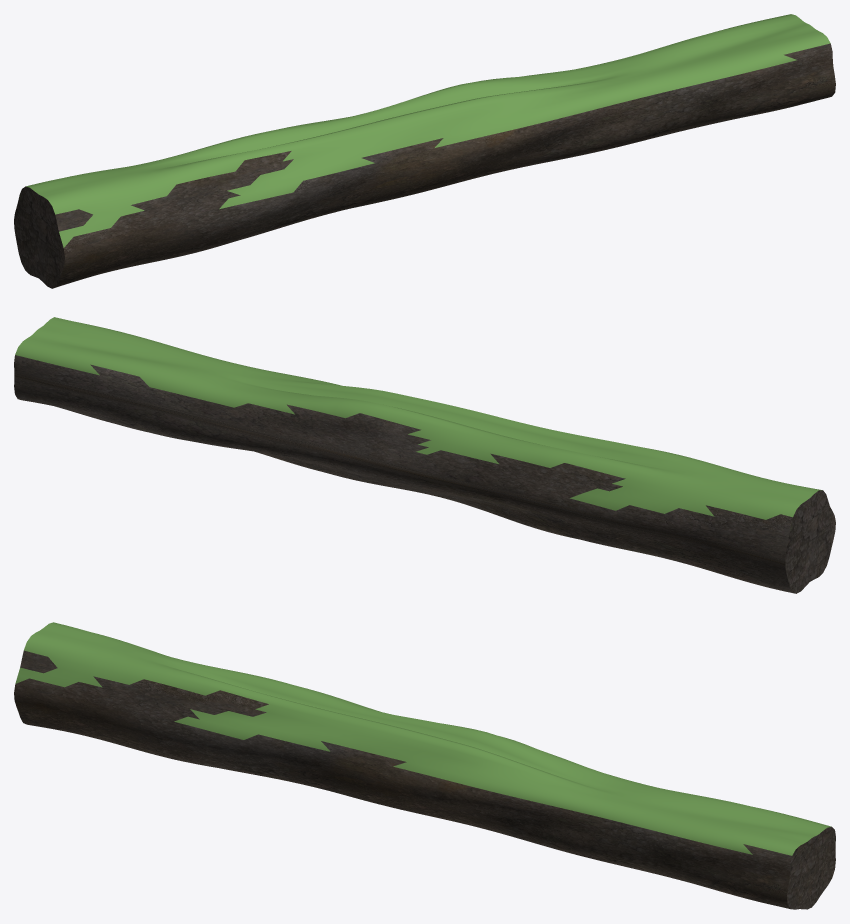
File: log_mossy_rotten.glb
The picture shows the model from 3 angles, top to bottom: view 1: azimuth 30°, elevation 25°; view 2: azimuth 150°, elevation 25°; view 3: azimuth 330°, elevation 25°; orthographic projection.
Visible parts, largest first — view 1: log_mossy_rotten; view 2: log_mossy_rotten; view 3: log_mossy_rotten.
Part boxes in pixels (x1,y1,x2,y2): log_mossy_rotten: (14, 14, 835, 288); log_mossy_rotten: (14, 317, 835, 593); log_mossy_rotten: (14, 622, 835, 909).
Size of the model in its own units: 4 by 0.4529 by 0.4714.
2 materials, 1 textured.
